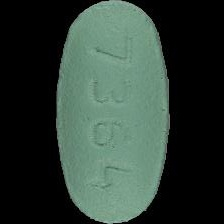0093-7364: (0, 0, 224, 224)
